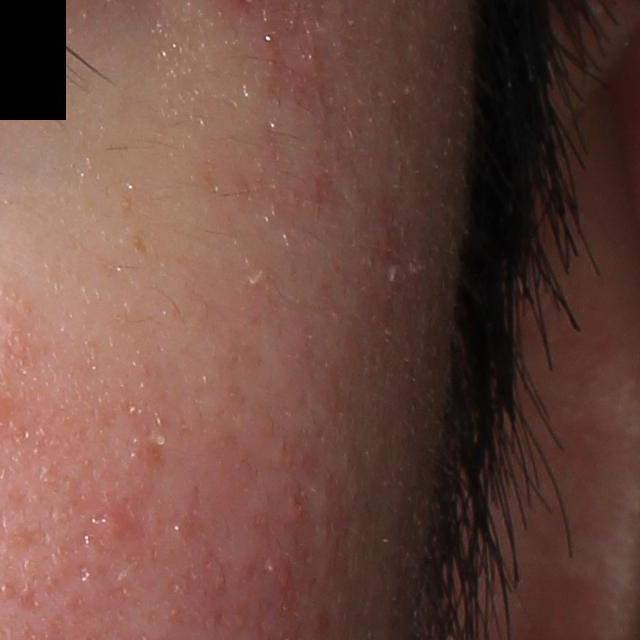papule: (91, 504, 124, 538)
